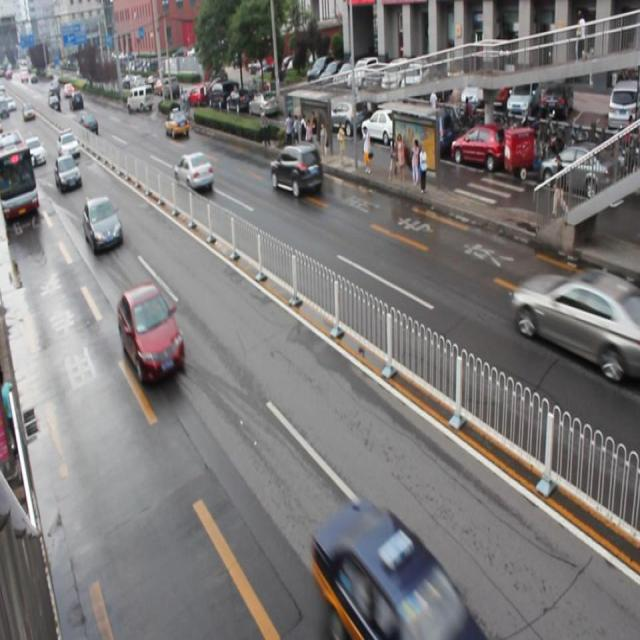car: (310, 503, 489, 640), (511, 263, 640, 381), (117, 282, 184, 384), (269, 142, 322, 196), (83, 196, 123, 253), (174, 151, 213, 190), (55, 155, 81, 190), (165, 106, 189, 138)
van: (1, 131, 40, 220)
